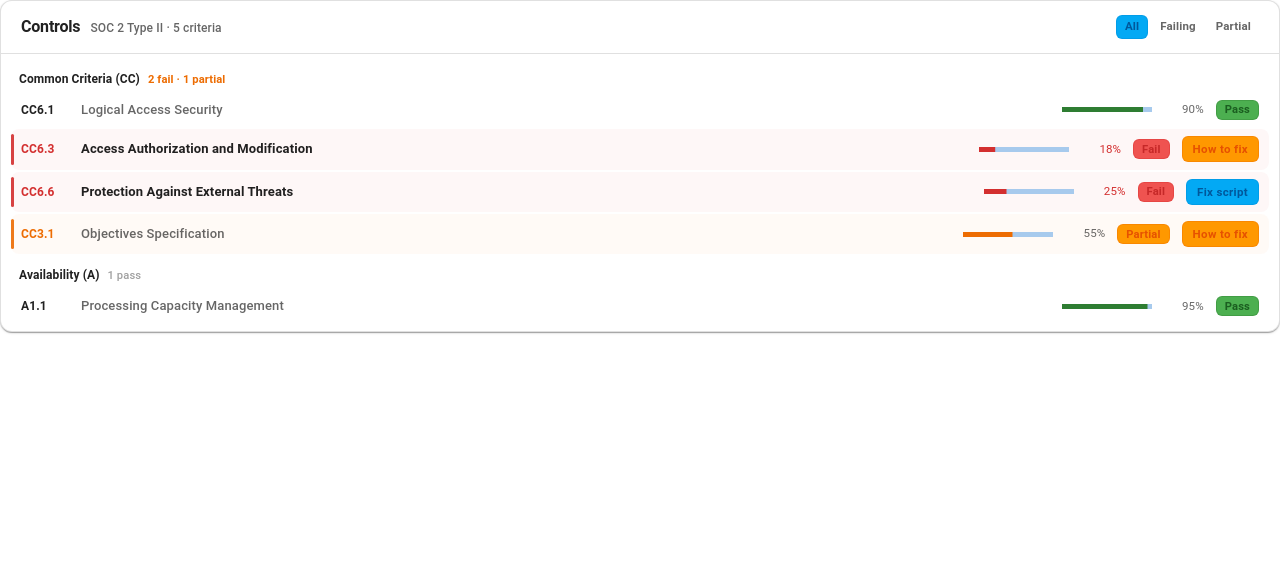
ControlHeatmap › clicking the same button again collapses the accordion
Click the button "Fix script": (1222, 192) [1186,179,1259,205]
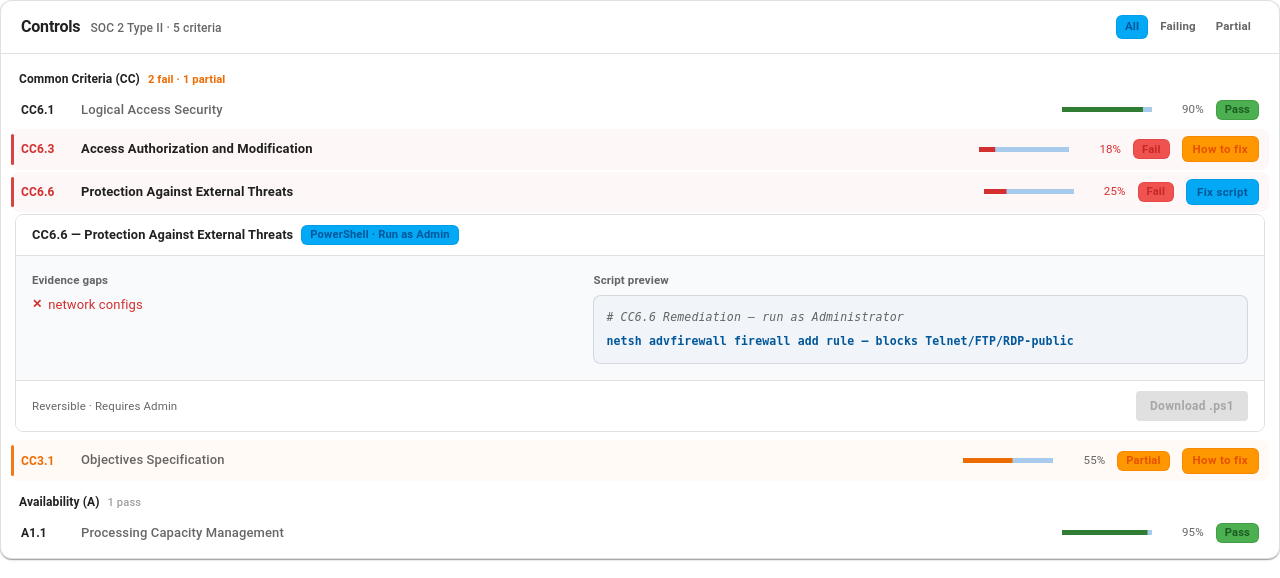
Click the button "Fix script": (1222, 192) [1186,179,1259,205]
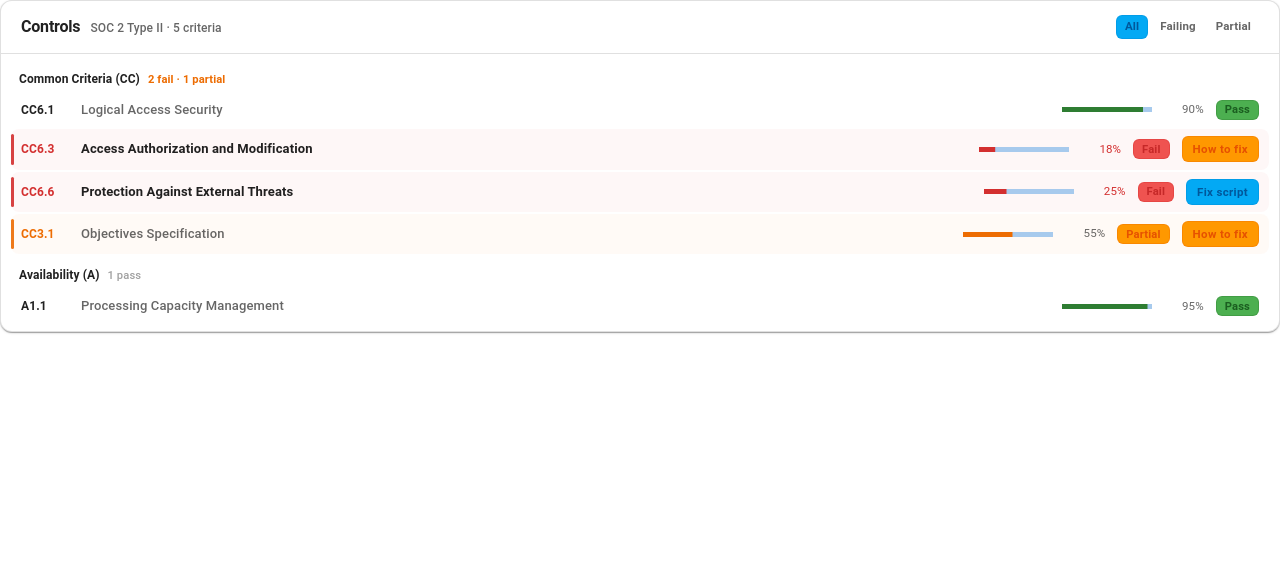
Expected: the text "Evidence gaps" is gone
